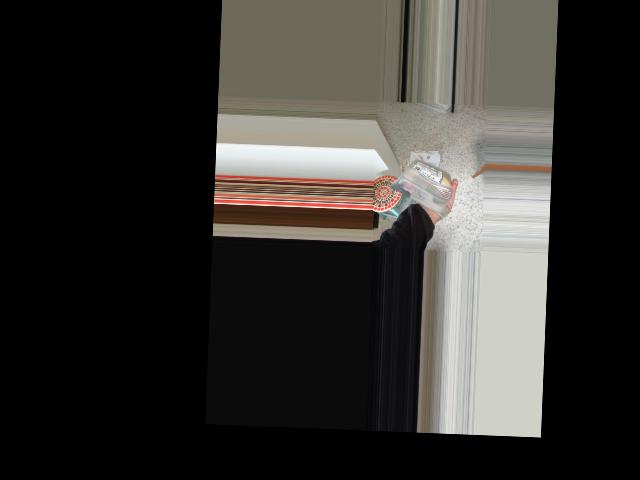cheese: (411, 143, 441, 208)
